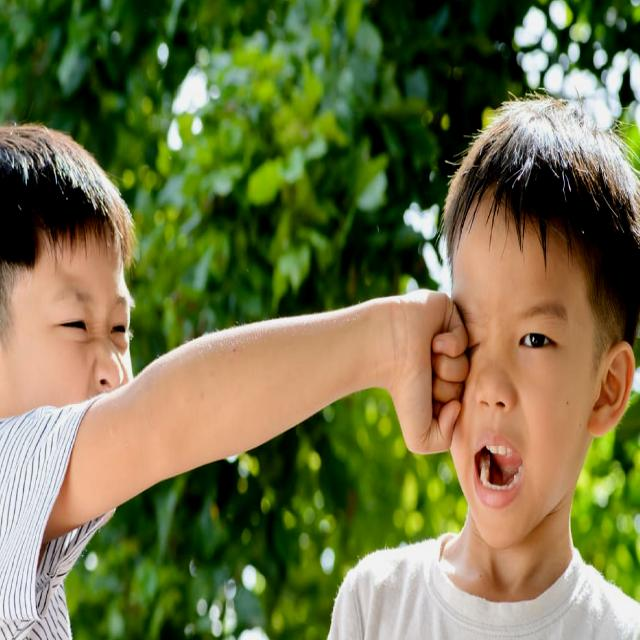fight: (0, 105, 638, 640)
